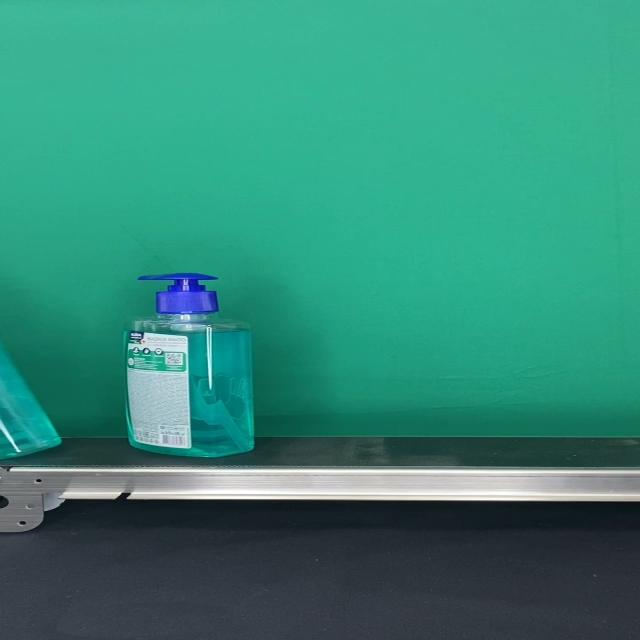Bottle: (121, 272, 255, 458)
Cap: (138, 273, 220, 315)
